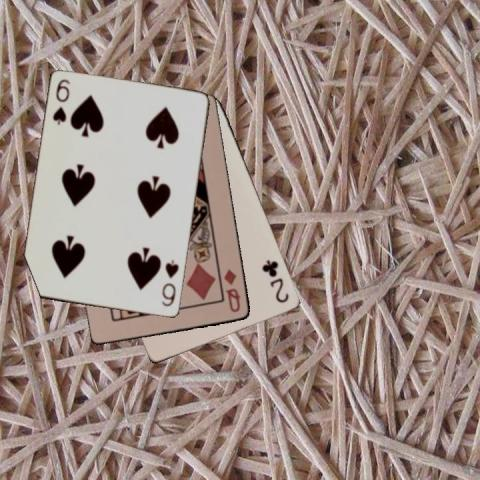2c: (259, 257, 291, 305)
6s: (159, 257, 180, 309), (50, 76, 71, 126)
Qd: (221, 267, 242, 314)
